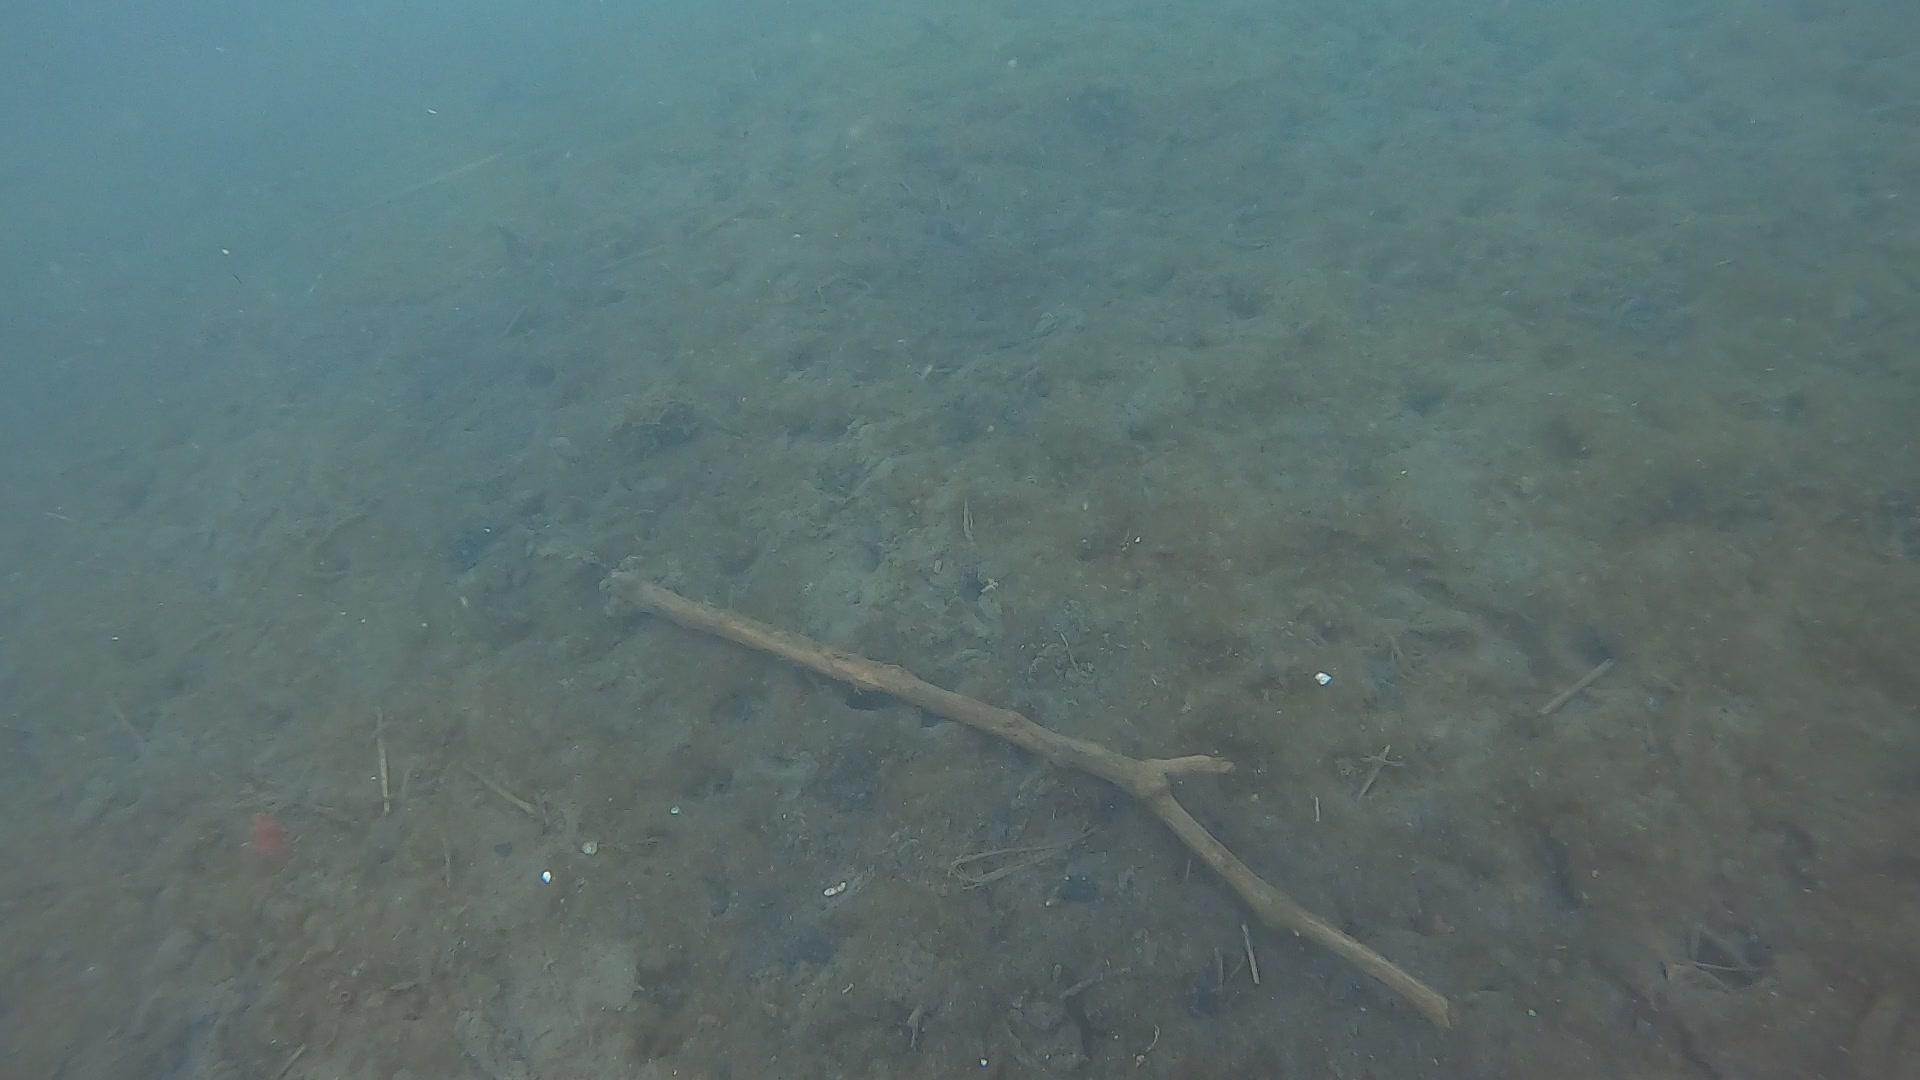wood: (596, 553, 1451, 1035)
